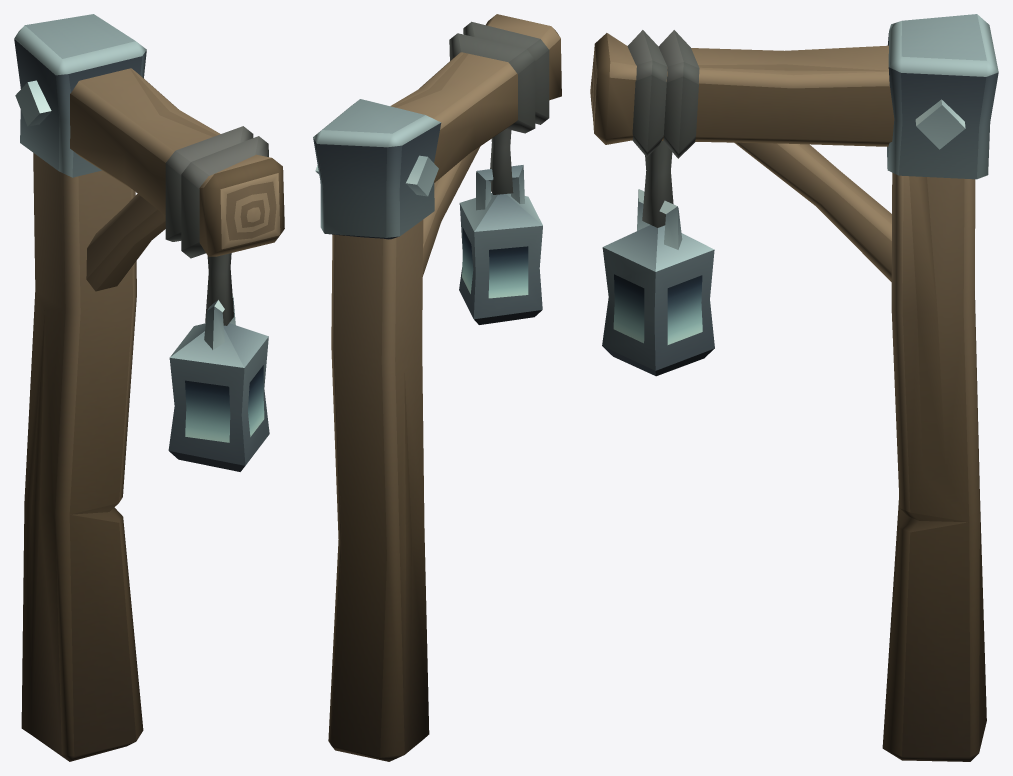
File: lantern_street.fbx
3 views of the same model, side by side, from view 1: azimuth 30°, elevation 25°; view 2: azimuth 150°, elevation 25°; view 3: azimuth 270°, elevation 25° (orthographic). The views are drawn at different scales.
Visible parts, largest first — view 1: lantern_street; view 2: lantern_street; view 3: lantern_street.
Boxes of the visible parts, bbox=[...] form: lantern_street: bbox=[14, 14, 284, 761]; lantern_street: bbox=[313, 14, 561, 761]; lantern_street: bbox=[590, 14, 998, 761].
Size of the model in its own units: 46.71 by 286 by 148.
